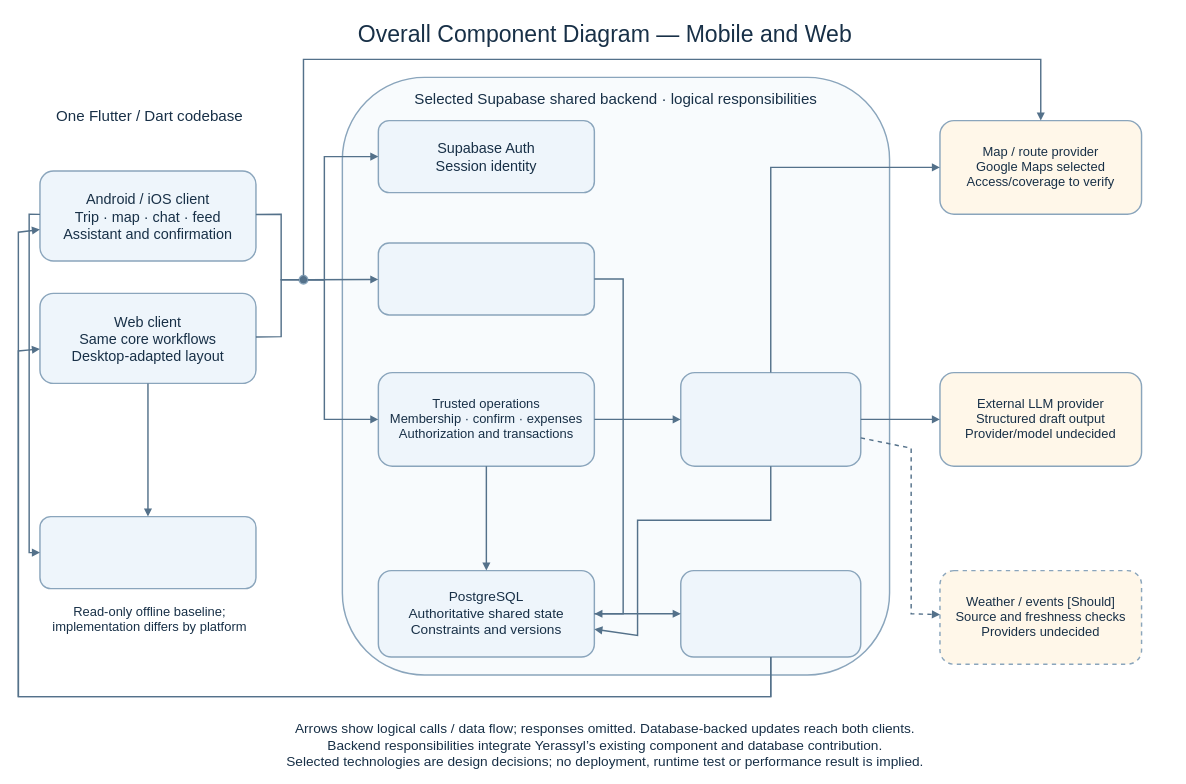
Image size: 1186x784. Some labels were removed from this diagram. Each missing label, with the centre of its shape:
Data API + RLS REST / HTTPS Membership policies: (486,278)
Planning pipeline Candidates · LLM adapter Budget / route / validator: (770,419)
Private local read cache Confirmed plan + sync metadata: (147,552)
Supabase Realtime Authorized updates After persistence: (770,613)
